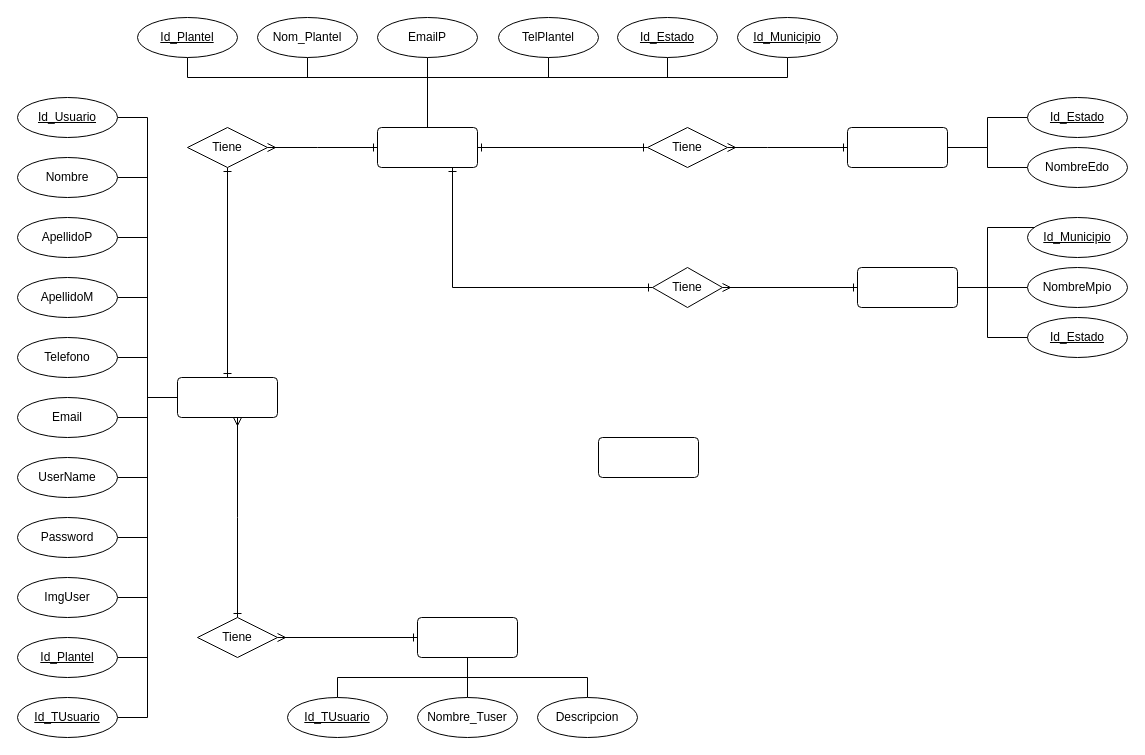
The diagram is 1145 pixels wide and 755 high, and some of its shapes have lost their labels. Here are the shapes that lost their labels. From the top down, the box of each, then its label:
(376, 126, 478, 168): Planteles
(846, 126, 948, 168): Estados
(856, 266, 958, 308): Municipios
(176, 376, 278, 418): Usuarios
(598, 436, 698, 478): Carreras
(416, 616, 518, 658): T_Usuario
